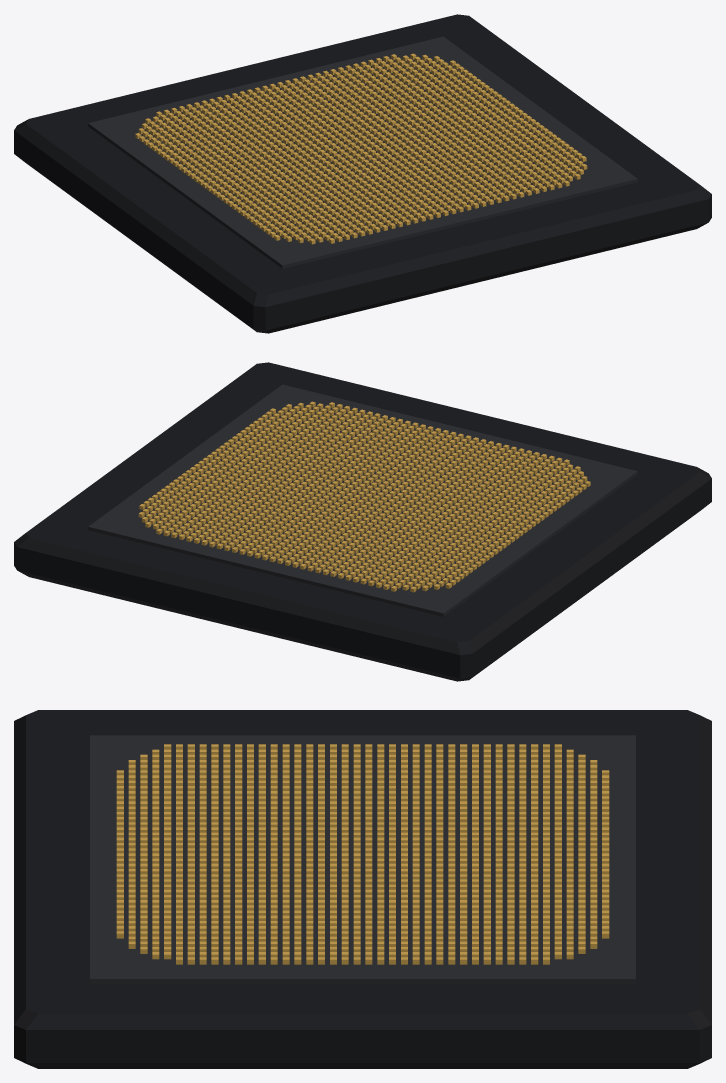
File: L128_CPU_SOCKET.fbx
The picture shows the model from 3 angles, top to bottom: view 1: azimuth 30°, elevation 25°; view 2: azimuth 150°, elevation 25°; view 3: azimuth 270°, elevation 25°; orthographic projection. The views are drawn at different scales.
Parts seen in each view (by area): view 1: CPU_SOCKET__Plastic, CPU_SOCKET__Gold, CPU_SOCKET__Chip; view 2: CPU_SOCKET__Plastic, CPU_SOCKET__Gold, CPU_SOCKET__Chip; view 3: CPU_SOCKET__Plastic, CPU_SOCKET__Chip, CPU_SOCKET__Gold.
Boxes of the visible parts, x1,y1,x2,y2 form: CPU_SOCKET__Plastic: (14, 14, 711, 333); CPU_SOCKET__Gold: (135, 53, 587, 244); CPU_SOCKET__Chip: (88, 36, 637, 268); CPU_SOCKET__Plastic: (14, 362, 711, 681); CPU_SOCKET__Gold: (138, 401, 590, 592); CPU_SOCKET__Chip: (88, 384, 637, 616); CPU_SOCKET__Plastic: (14, 710, 711, 1068); CPU_SOCKET__Chip: (90, 735, 635, 983); CPU_SOCKET__Gold: (116, 744, 609, 964).
Size of the model in its own units: 49 by 4.72 by 46.
